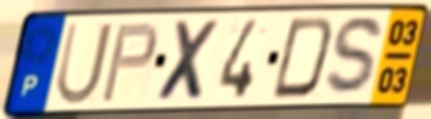4: (215, 17, 261, 102)
D: (268, 13, 337, 101)
P: (98, 20, 161, 105)
S: (321, 13, 387, 100)
U: (52, 20, 116, 107)
X: (153, 18, 225, 104)
